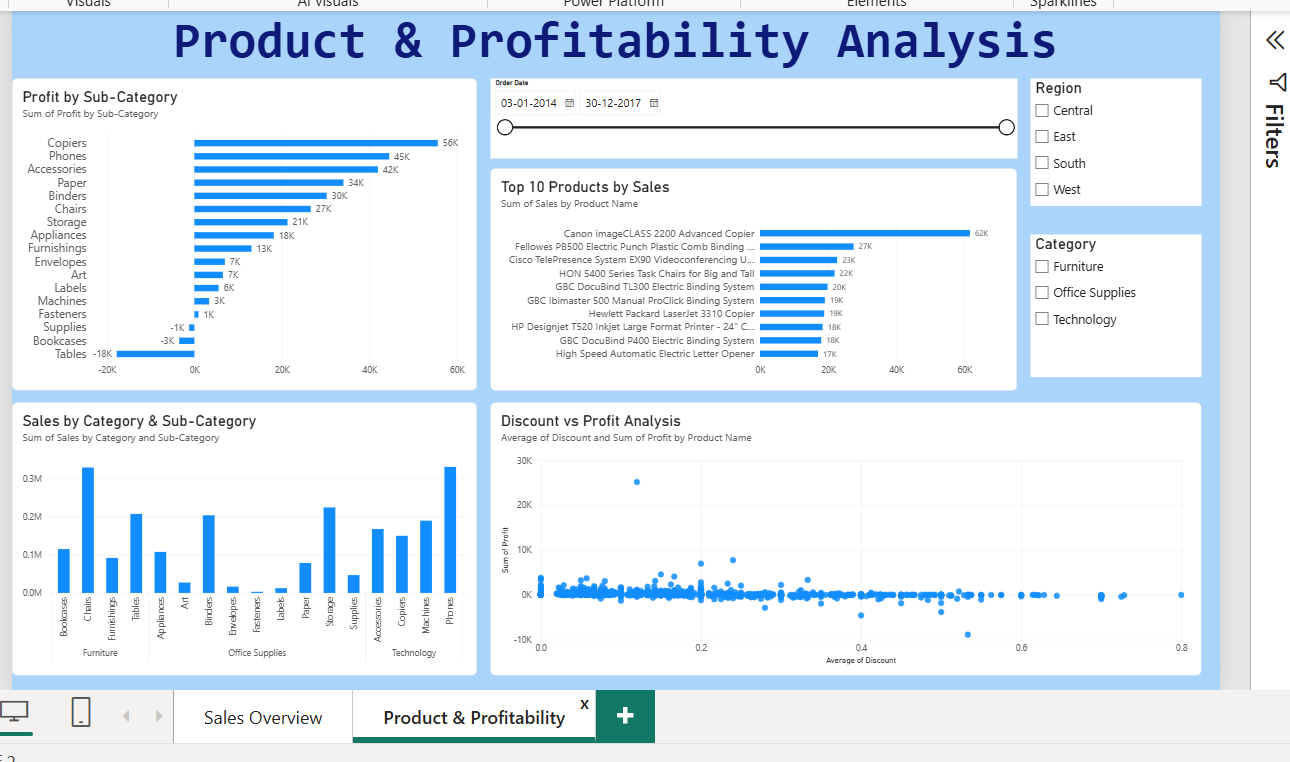

The dashboard page shown, as its layout file describes it:
{"tool":"powerbi","page":{"name":"Product & Profitability","canvas":[1920,1080],"ordinal":1},"visuals":[{"type":"clusteredBarChart","title":"Profit by Sub-Category","fields":{"Category":["Sample - Superstore.Sub-Category"],"Y":["Sum(Sample - Superstore.Profit)"]},"box":[0,107.4,739.6,496.3],"z":0},{"type":"clusteredBarChart","title":"Top 10 Products by Sales","fields":{"Category":["Sample - Superstore.Product Name"],"Y":["Sum(Sample - Superstore.Sales)"]},"box":[761.1,250.5,837.5,353.1],"z":1},{"type":"scatterChart","title":"Discount vs Profit Analysis","fields":{"Category":["Sample - Superstore.Product Name"],"X":["Avg(Sample - Superstore.Discount)"],"Y":["Sum(Sample - Superstore.Profit)"]},"box":[761.1,622.7,1130.9,434.2],"z":2},{"type":"clusteredColumnChart","title":"Sales by Category & Sub-Category","fields":{"Category":["Sample - Superstore.Category","Sample - Superstore.Sub-Category"],"Y":["Sum(Sample - Superstore.Sales)"]},"box":[0,622.7,739.6,434.2],"z":3},{"type":"slicer","fields":{"Values":["Sample - Superstore.Region"]},"box":[1620,107.4,272,202.8],"z":4},{"type":"slicer","fields":{"Values":["Sample - Superstore.Category"]},"box":[1620,355.5,272,226.7],"z":5},{"type":"slicer","fields":{"Values":["Sample - Superstore.Order Date"]},"box":[761.1,107.4,837.5,126.5],"z":6},{"type":"textbox","box":[0,0,1920.7,121.7],"z":7}]}

Visuals, with their boxes on the page's 1920x1080 design canvas (x1, y1, x2, y2). These are canvas units, not pixel positions in the 1290x762 screenshot, which may show the page scaled, cropped or inside an application window:
"Profit by Sub-Category" clusteredBarChart: (0, 107, 740, 604)
"Top 10 Products by Sales" clusteredBarChart: (761, 250, 1599, 604)
"Discount vs Profit Analysis" scatterChart: (761, 623, 1892, 1057)
"Sales by Category & Sub-Category" clusteredColumnChart: (0, 623, 740, 1057)
slicer - Sample - Superstore.Region: (1620, 107, 1892, 310)
slicer - Sample - Superstore.Category: (1620, 356, 1892, 582)
slicer - Sample - Superstore.Order Date: (761, 107, 1599, 234)
textbox: (0, 0, 1921, 122)
